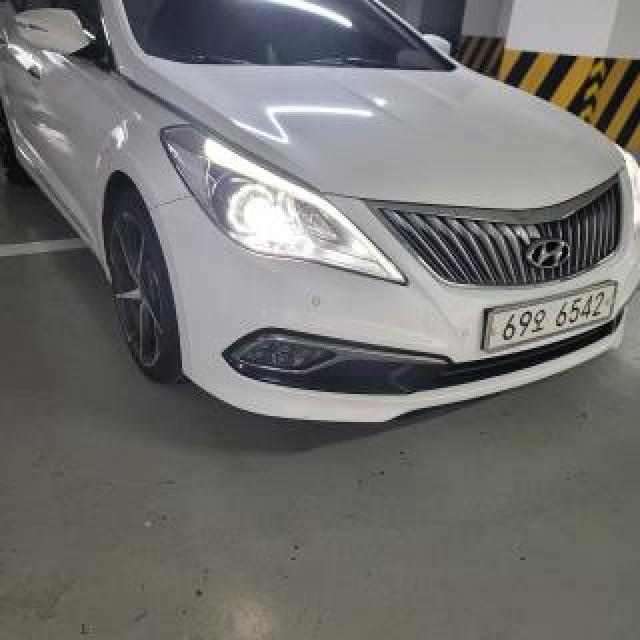car: (0, 0, 640, 436)
illegal_plate: (484, 282, 618, 362)
